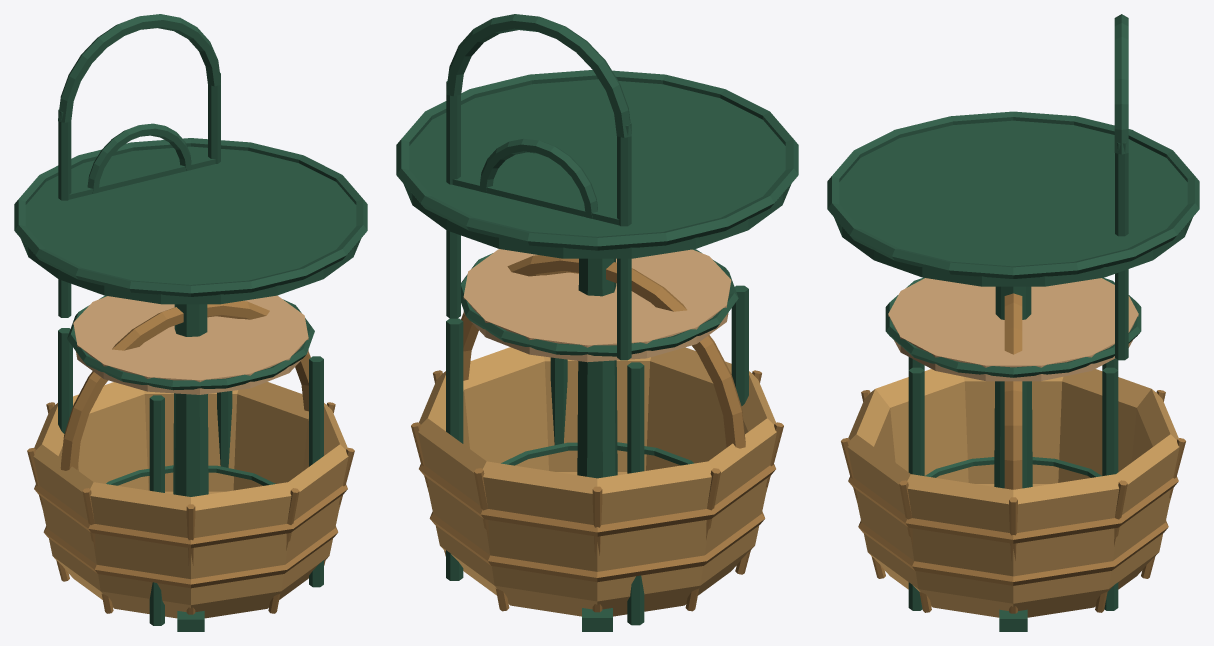
File: furniture.glb
3 renders of one model, left to right at view 1: azimuth 30°, elevation 25°; view 2: azimuth 150°, elevation 25°; view 3: azimuth 270°, elevation 25°, orthographic. The views are drawn at different scales.
Visible parts, largest first — view 1: furniture_basket, furniture_table_bistro, furniture_chair_bistro; view 2: furniture_basket, furniture_table_bistro, furniture_chair_bistro; view 3: furniture_basket, furniture_table_bistro, furniture_chair_bistro.
Boxes of the visible parts, left/top/right/bottom form: furniture_basket: left=27, top=301, right=354, bottom=618; furniture_table_bistro: left=14, top=138, right=367, bottom=631; furniture_chair_bistro: left=58, top=14, right=323, bottom=625; furniture_basket: left=411, top=255, right=783, bottom=616; furniture_table_bistro: left=396, top=70, right=798, bottom=631; furniture_chair_bistro: left=446, top=14, right=748, bottom=625; furniture_basket: left=841, top=293, right=1185, bottom=617; furniture_table_bistro: left=827, top=111, right=1199, bottom=631; furniture_chair_bistro: left=885, top=14, right=1141, bottom=610.
Size of the model in its own units: 0.664 by 1.06 by 0.6539.
